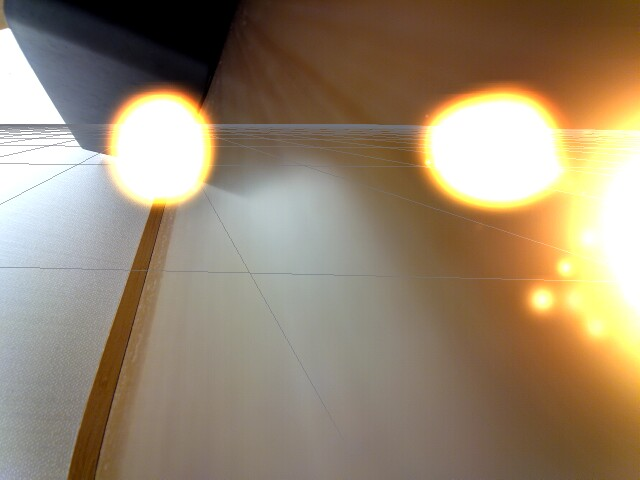firebig: (408, 49, 564, 218)
